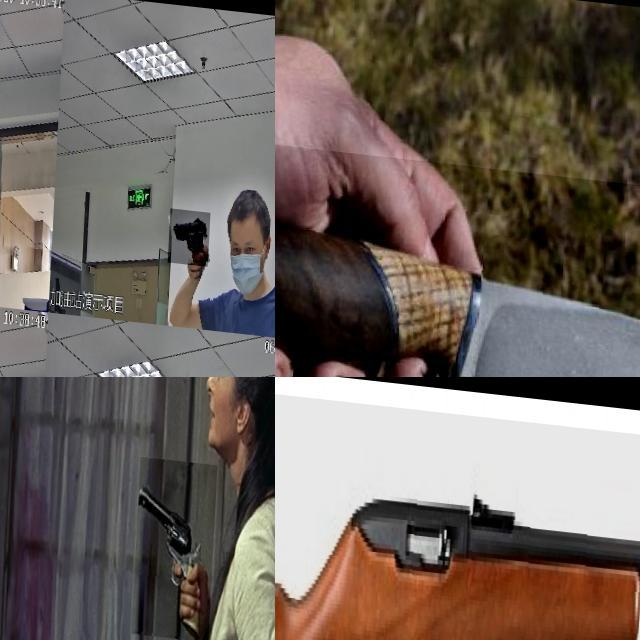-: (275, 138, 640, 377)
gun-knife-thesis - v11 Yolov5 augmented: (275, 377, 640, 640), (137, 448, 221, 632), (170, 199, 212, 256), (0, 170, 14, 220)
